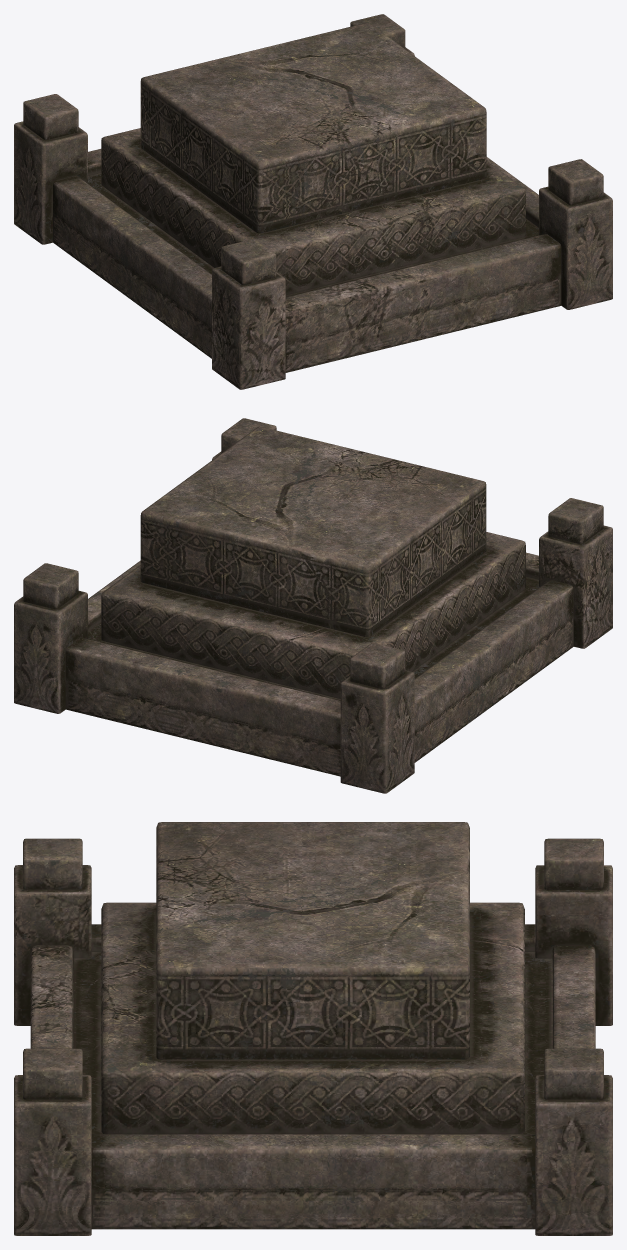
File: SM_tombstone_38.fbx
3 renders of one model, top to bottom at view 1: azimuth 30°, elevation 25°; view 2: azimuth 150°, elevation 25°; view 3: azimuth 270°, elevation 25°, orthographic. The views are drawn at different scales.
Parts seen in each view (by area): view 1: SM_tombstone_038; view 2: SM_tombstone_038; view 3: SM_tombstone_038.
Boxes of the visible parts, left/top/right/bottom form: SM_tombstone_038: left=14, top=14, right=612, bottom=389; SM_tombstone_038: left=14, top=418, right=612, bottom=793; SM_tombstone_038: left=14, top=822, right=612, bottom=1235.
Size of the model in its own units: 132 by 56.94 by 139.
